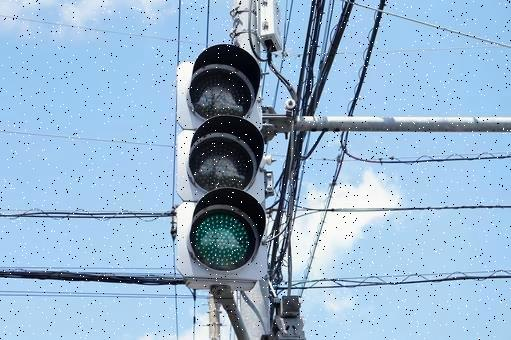cars: (176, 44, 264, 279)
